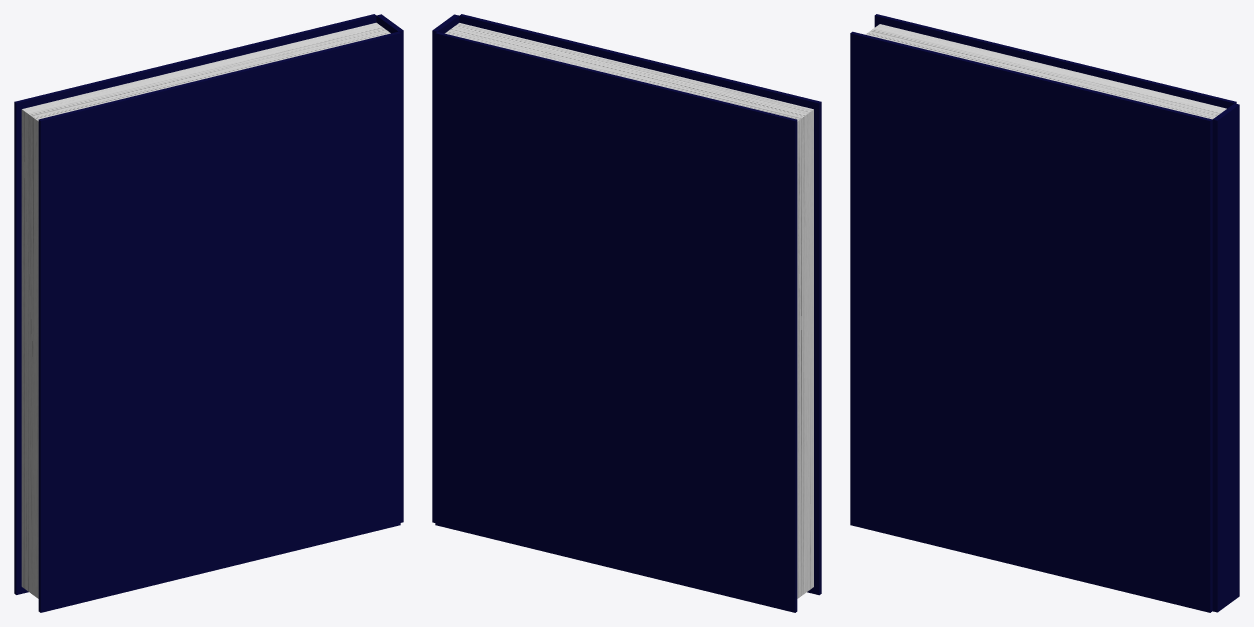
The model's file is salotto_libro_libreria.fbx.
3 renders of one model, left to right at view 1: azimuth 30°, elevation 25°; view 2: azimuth 150°, elevation 25°; view 3: azimuth 330°, elevation 25°, orthographic.
Parts seen in each view (by area): view 1: libro; view 2: libro; view 3: libro.
Boxes of the visible parts, bbox=[...] form: libro: bbox=[14, 14, 403, 612]; libro: bbox=[432, 14, 821, 612]; libro: bbox=[850, 14, 1239, 612].
Size of the model in its own units: 40 by 51.5 by 5.
